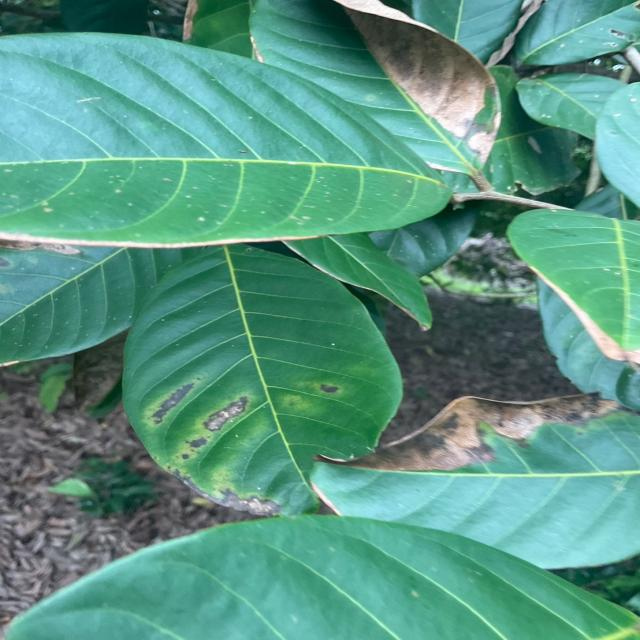Leaf Blight: (245, 2, 498, 172)
